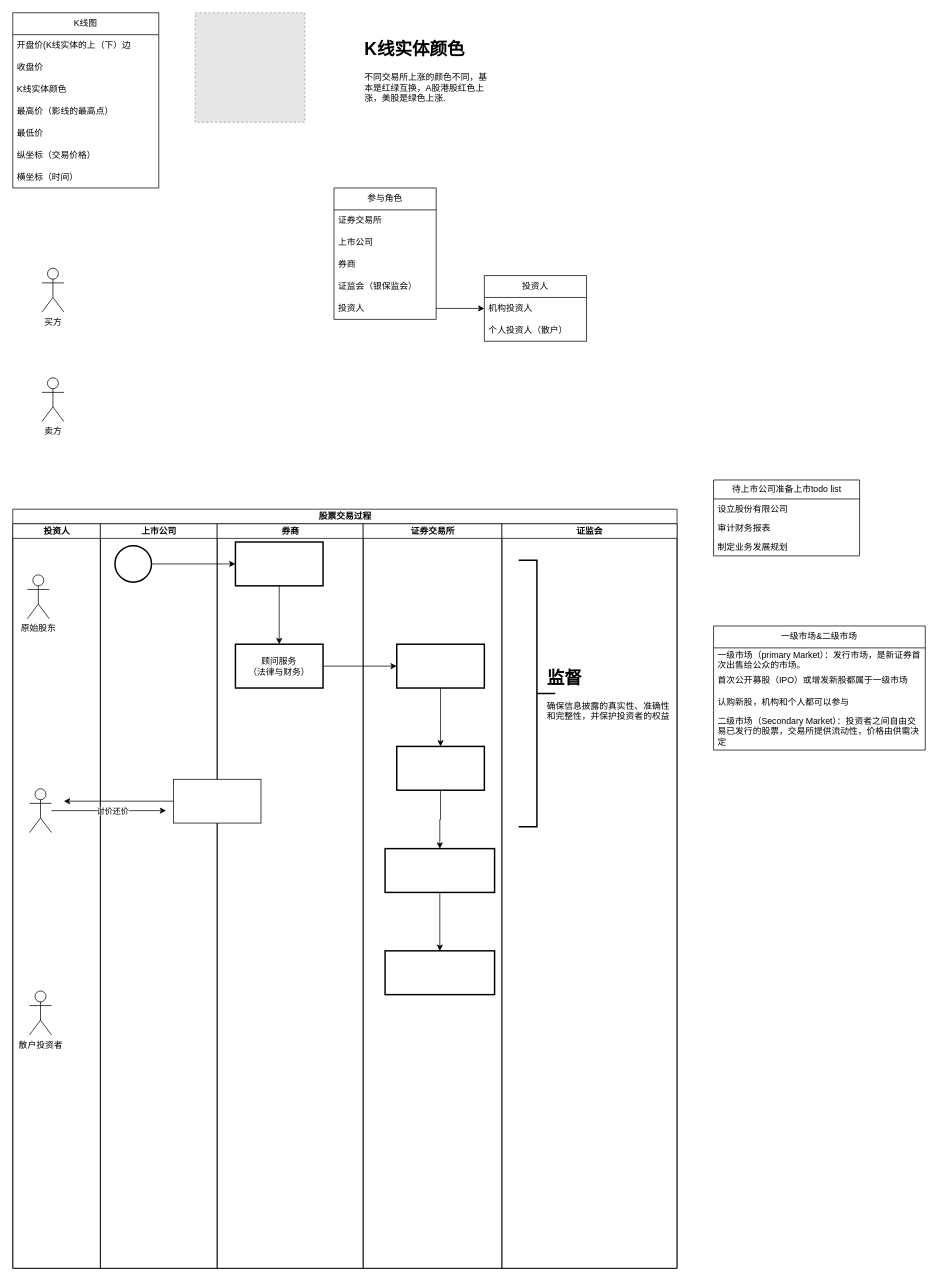
This 938x1281 diagram has some shape labels left out. Grey dashed boxes stand in for pictures. The shapes that lost their labels are listed below. From the top down, each one's centre as x and y in pixels, then its label:
the point at 133,564: 准备上市
the point at 278,563: 承销与分销
the point at 440,665: 审核与批准
the point at 440,768: 交易支持 （提供交易平台，让股票在市场上自由买卖）
the point at 40,810: 机构投资者
the point at 217,801: 路演 （向机构投资者推介股票，确定发行价）
the point at 439,870: 挂牌交易 (完成股票代码分配，正式开放二级市场交易)
the point at 439,972: 撮合交易 （匹配买卖订单，实时更新价格和成交量）
